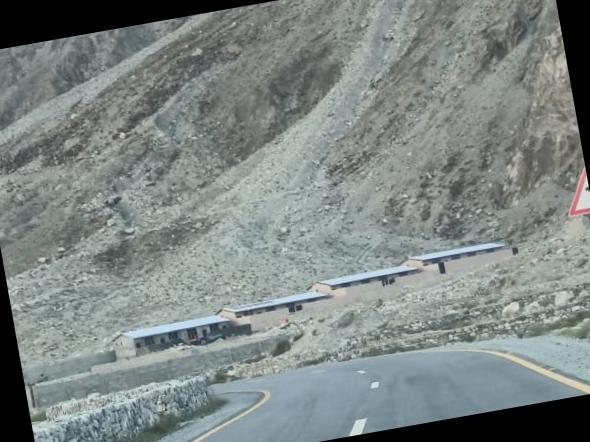right_turn: (117, 283, 526, 442), (560, 167, 590, 218)
